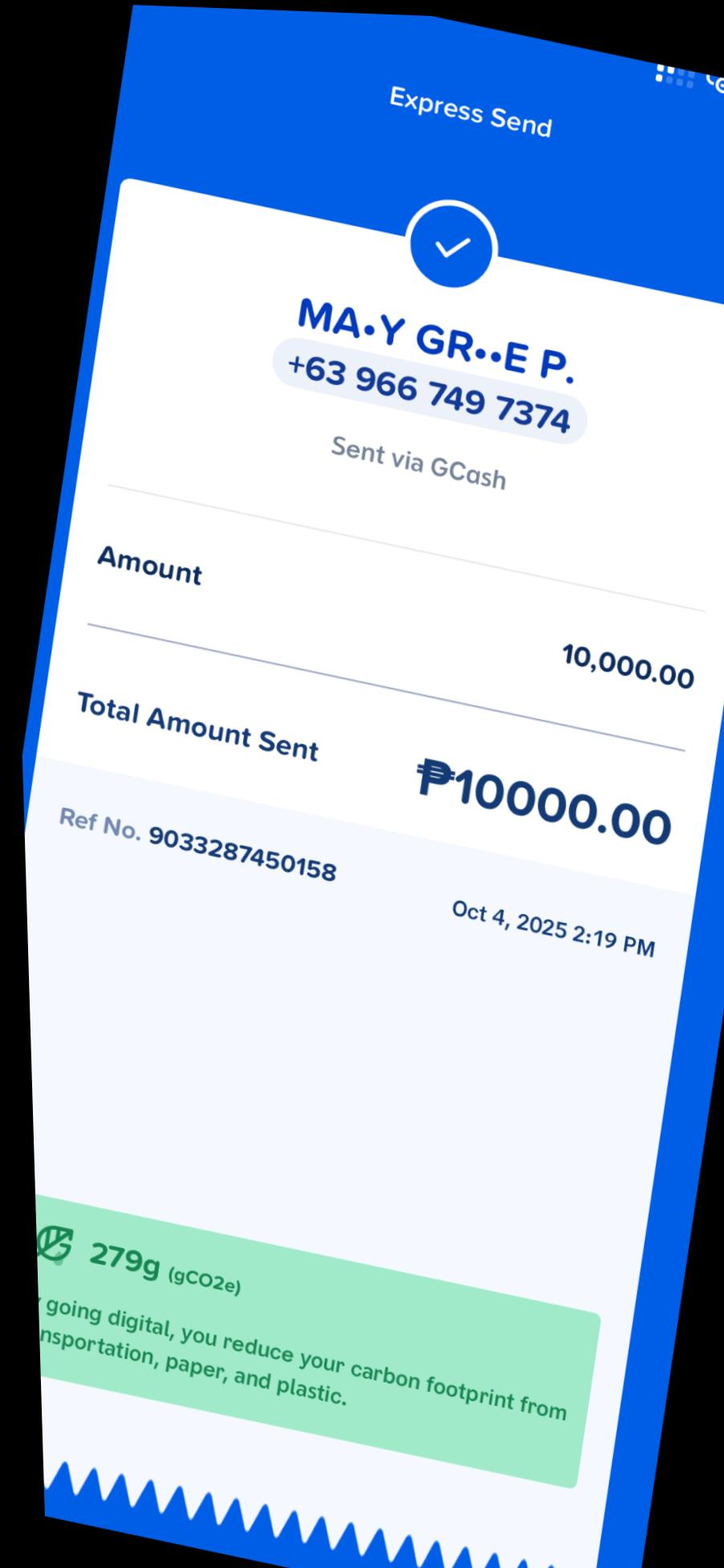Receipt: (22, 12, 724, 1568)
